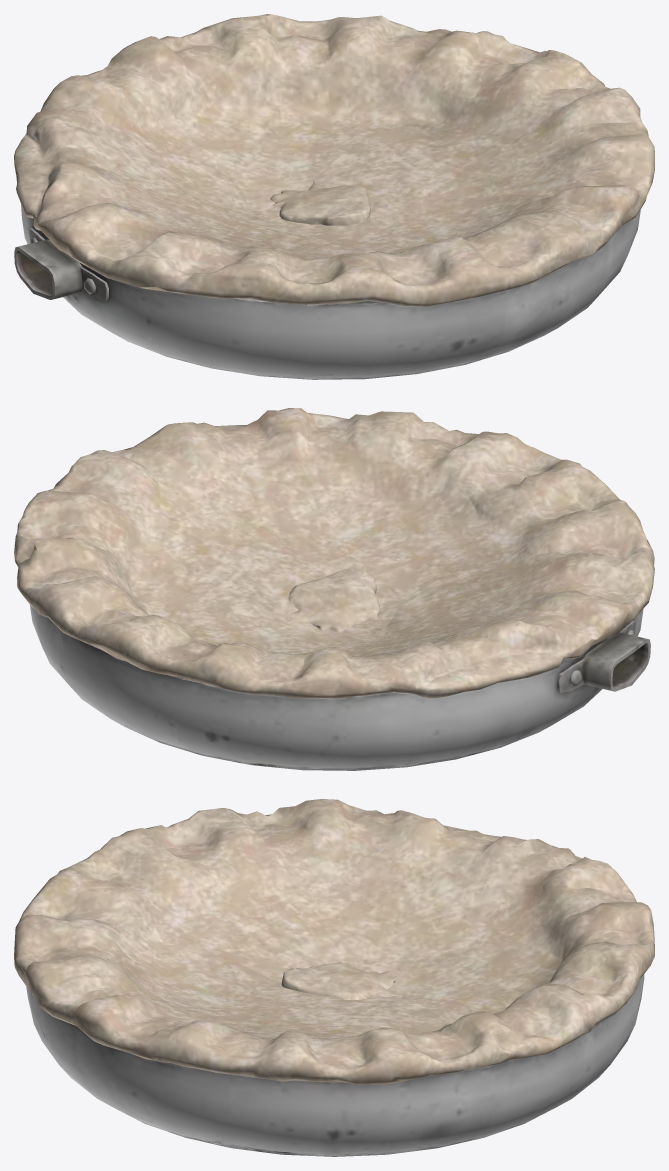
Rendered from pie.berry.oven.glb.
3 renders of one model, top to bottom at view 1: azimuth 30°, elevation 25°; view 2: azimuth 150°, elevation 25°; view 3: azimuth 270°, elevation 25°, orthographic.
Visible parts, largest first — view 1: Pie_Crust, Pie_Frying_Pan, Pie_Top_Crust_Berry; view 2: Pie_Crust, Pie_Frying_Pan, Pie_Top_Crust_Berry; view 3: Pie_Crust, Pie_Frying_Pan, Pie_Top_Crust_Berry.
Boxes of the visible parts, x1,y1,x2,y2 form: Pie_Crust: [14, 14, 654, 306]; Pie_Frying_Pan: [14, 204, 640, 379]; Pie_Top_Crust_Berry: [270, 181, 370, 225]; Pie_Crust: [14, 408, 654, 698]; Pie_Frying_Pan: [30, 605, 650, 770]; Pie_Top_Crust_Berry: [286, 568, 380, 632]; Pie_Crust: [14, 799, 654, 1084]; Pie_Frying_Pan: [26, 974, 644, 1156]; Pie_Top_Crust_Berry: [281, 962, 402, 1000].
Size of the model in its own units: 0.2443 by 0.0556 by 0.234.
Materials: 2 (2 with a texture image).
